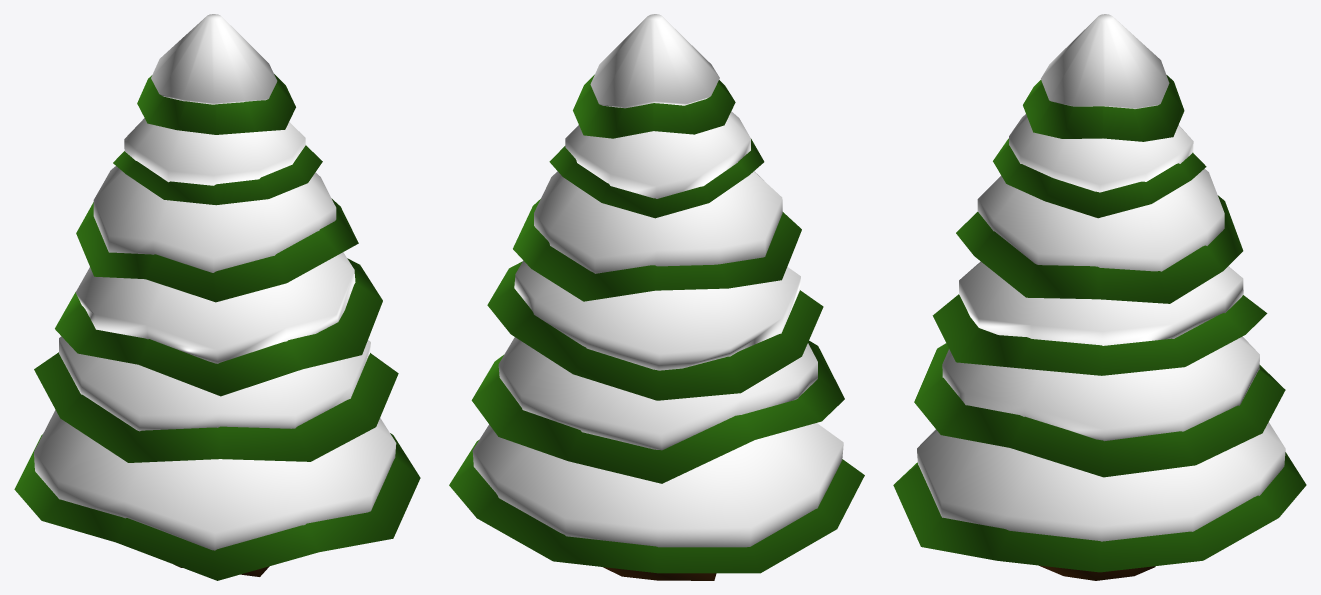
Rendered from snowtree.fbx.
The picture shows the model from 3 angles, left to right: view 1: azimuth 30°, elevation 25°; view 2: azimuth 150°, elevation 25°; view 3: azimuth 270°, elevation 25°; orthographic projection. The views are drawn at different scales.
Visible parts, largest first — view 1: tree; view 2: tree; view 3: tree.
Boxes of the visible parts, x1,y1,x2,y2 form: tree: (14,14,420,580); tree: (449,14,864,580); tree: (893,14,1306,580).
Size of the model in its own units: 455 by 651 by 455.
Materials: 1 (1 with a texture image).
